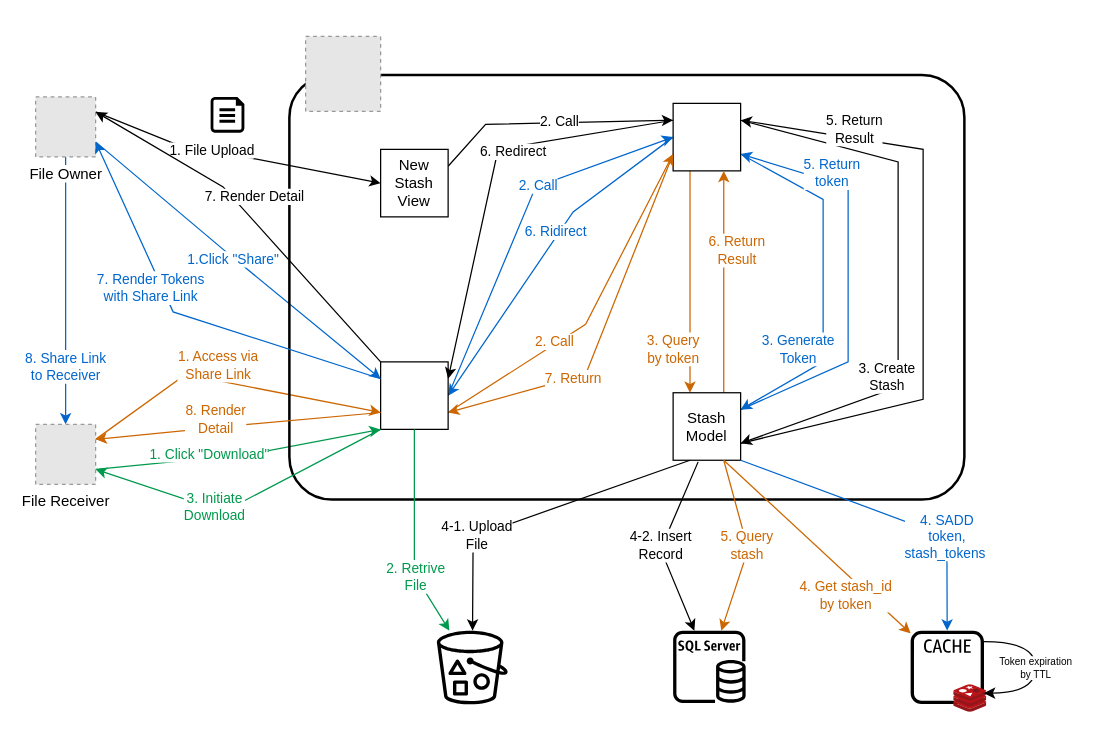
This 1093x738 diagram has some shape labels left out. Grey dashed boxes stand in for pictures. Each missing label, with the box of its shape:
Stash Controller: (672, 102, 741, 171)
Stash Detail View: (379, 361, 448, 429)
